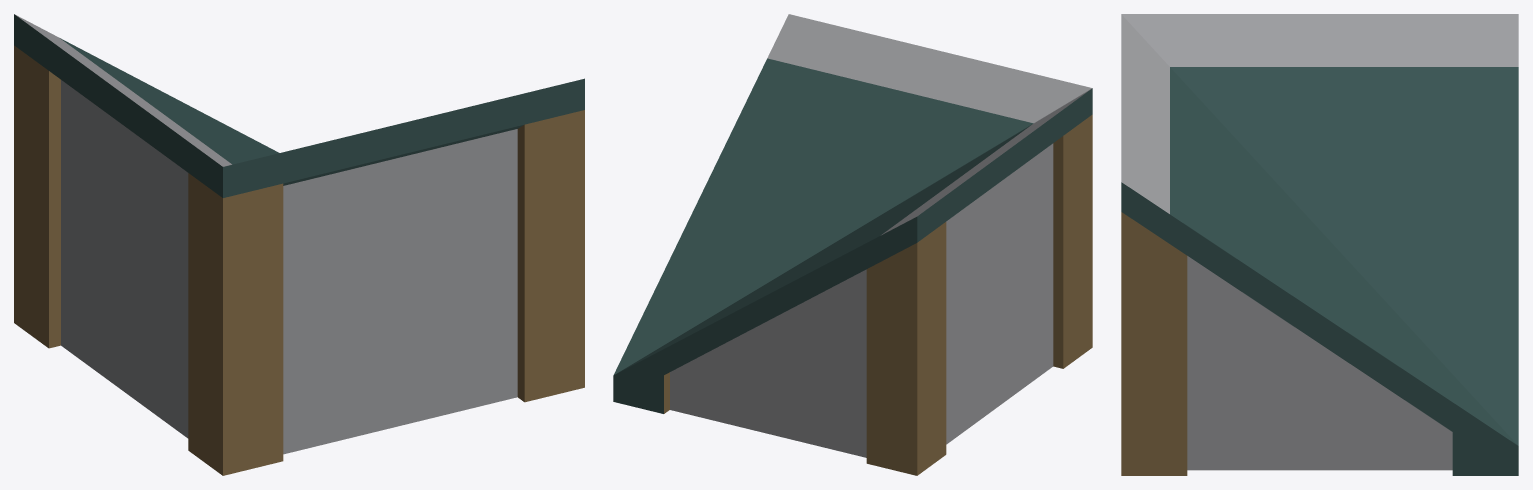
The model's file is Roof_Inner_Corner_Green_01.obj.
The picture shows the model from 3 angles, left to right: view 1: azimuth 30°, elevation 25°; view 2: azimuth 150°, elevation 25°; view 3: azimuth 270°, elevation 25°; orthographic projection. The views are drawn at different scales.
Visible parts, largest first — view 1: Mesh1_Roof_Inner_Corner_Green_Model; view 2: Mesh1_Roof_Inner_Corner_Green_Model; view 3: Mesh1_Roof_Inner_Corner_Green_Model.
Part boxes in pixels (x1,y1,x2,y2): Mesh1_Roof_Inner_Corner_Green_Model: [14, 14, 584, 475]; Mesh1_Roof_Inner_Corner_Green_Model: [613, 14, 1092, 475]; Mesh1_Roof_Inner_Corner_Green_Model: [1121, 14, 1518, 475].
Bounding box in the file's own units: 3 × 2.45 × 3.
